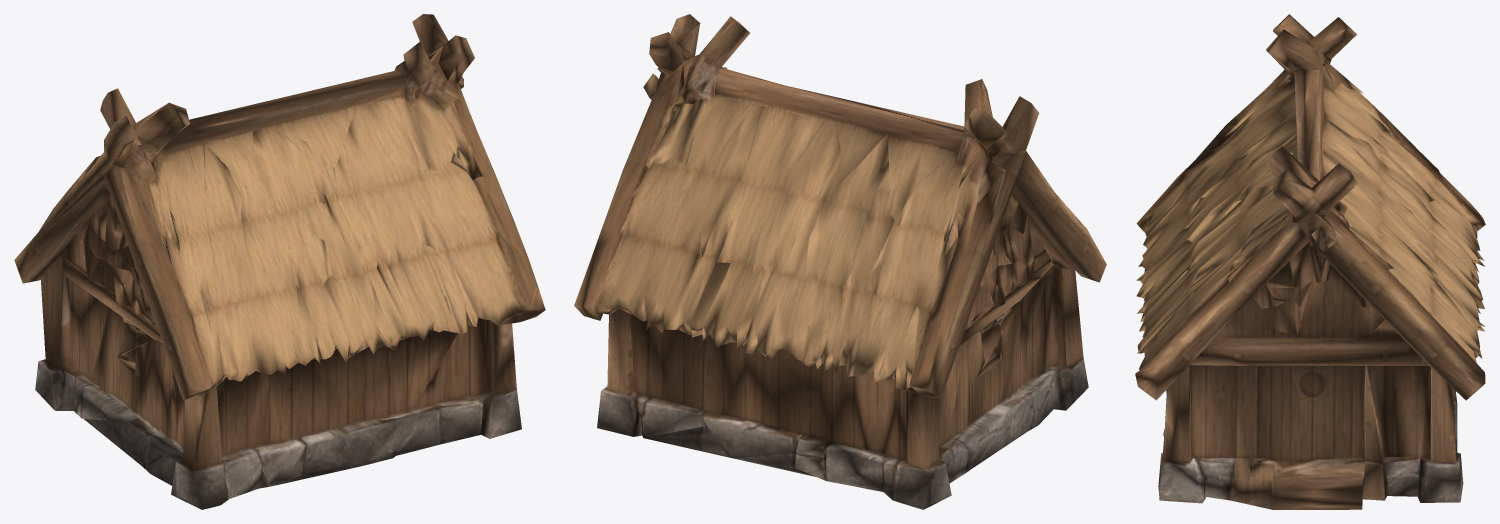
File: house-hut.glb
The picture shows the model from 3 angles, left to right: view 1: azimuth 30°, elevation 25°; view 2: azimuth 150°, elevation 25°; view 3: azimuth 270°, elevation 25°; orthographic projection. The views are drawn at different scales.
Parts seen in each view (by area): view 1: Mesh_0; view 2: Mesh_0; view 3: Mesh_0.
Boxes of the visible parts, left/top/right/bottom form: Mesh_0: left=14, top=14, right=545, bottom=509; Mesh_0: left=574, top=14, right=1106, bottom=509; Mesh_0: left=1135, top=14, right=1485, bottom=509.
Size of the model in its own units: 4.36 by 4 by 3.76.
Materials: 1 (1 with a texture image).
